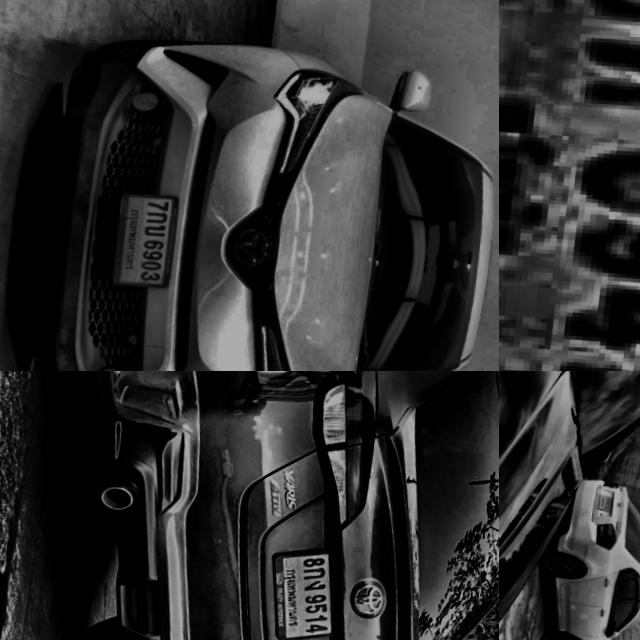license-plate: (499, 0, 640, 371), (264, 542, 355, 640), (111, 188, 190, 292)
